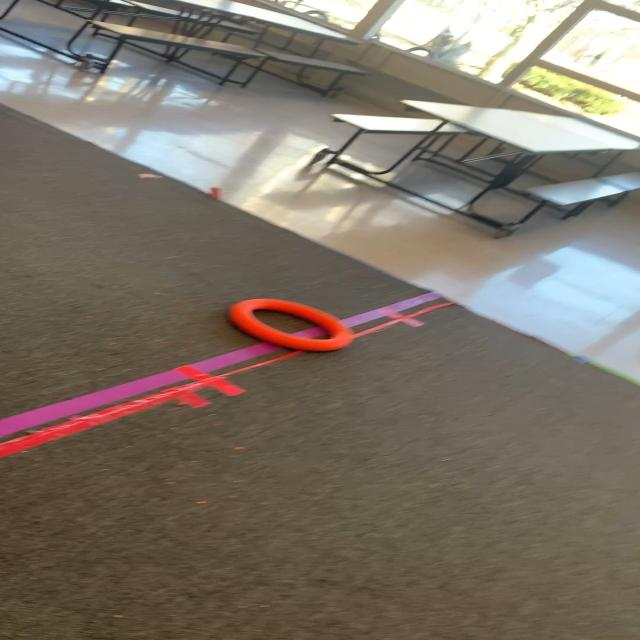notes: (235, 298, 355, 350)
